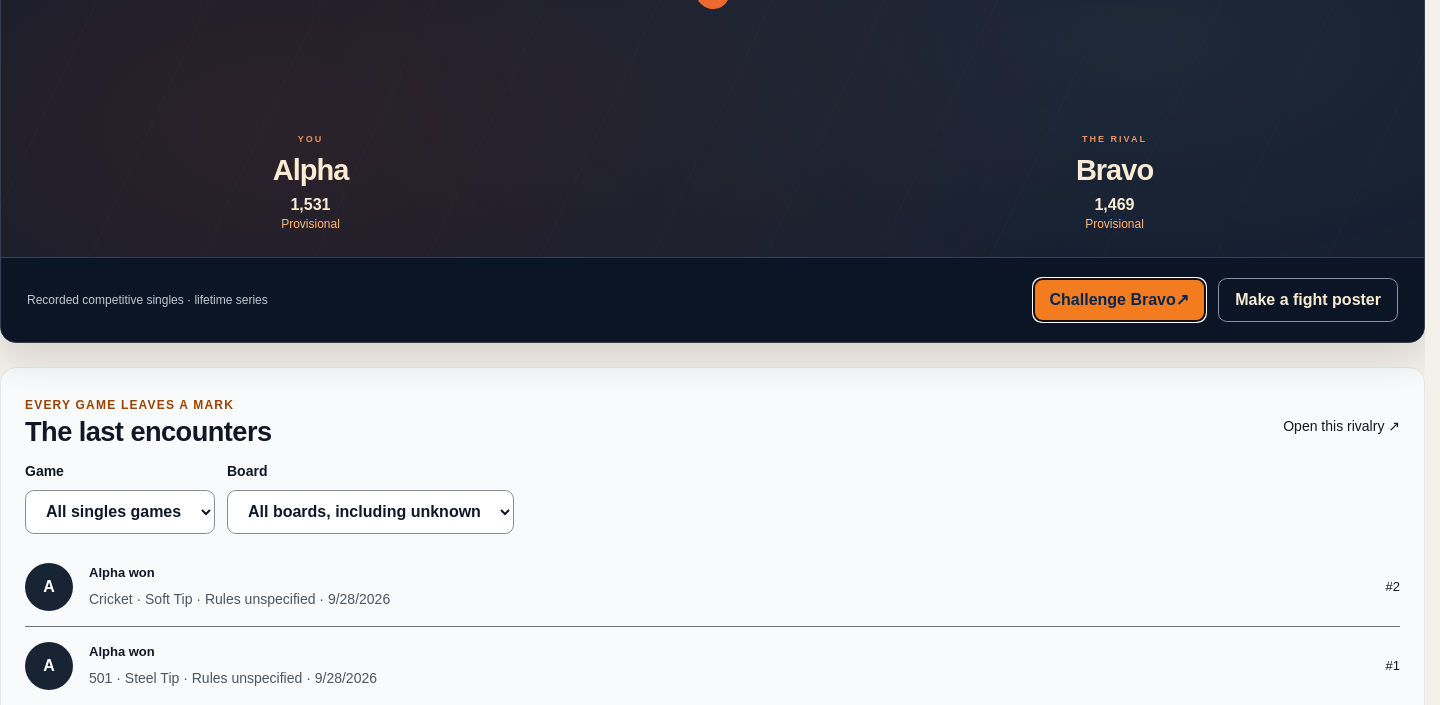
returns focus to Challenge Bravo after dialog close
(page scrolled)
Click the button "Challenge Bravo ↗" at coordinates (1119, 300), box x1=1032 y1=278 x2=1206 y2=322
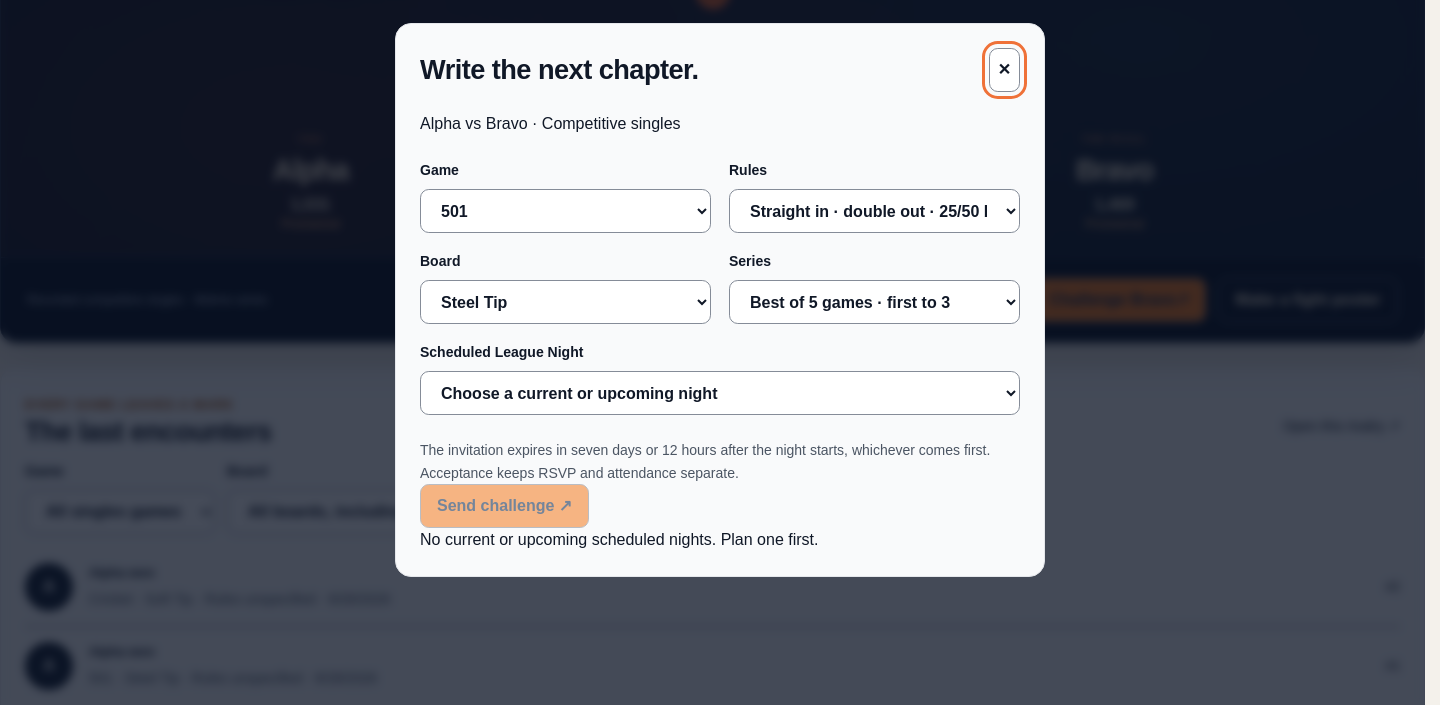
Click the button named "Close dialog" at coordinates (1004, 70), box x1=989 y1=48 x2=1020 y2=92
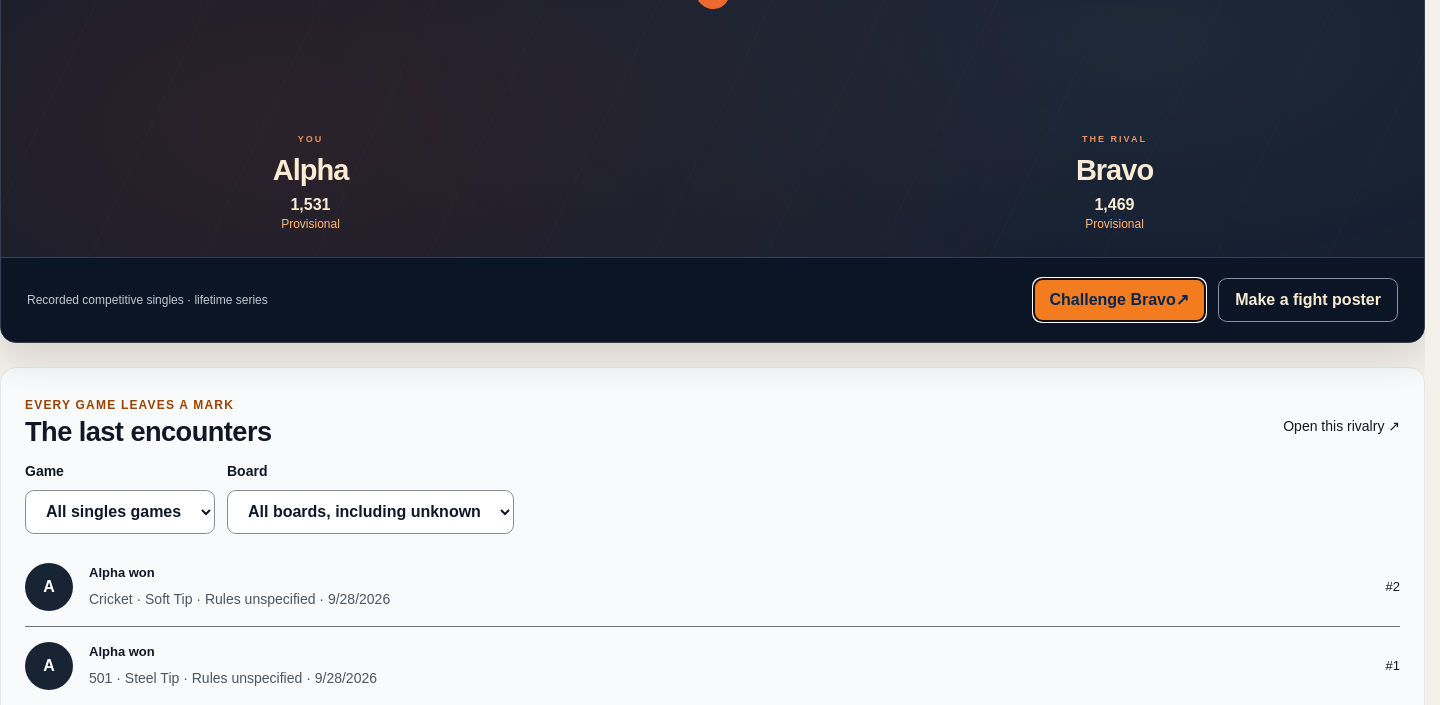
Expected: the dialog is gone
